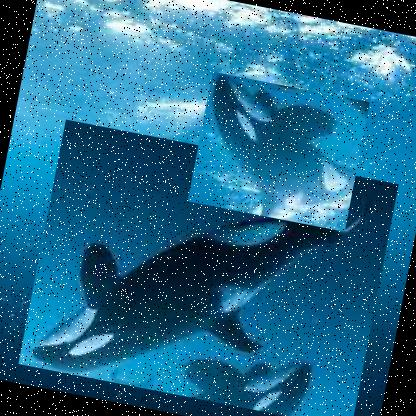killer_whale: (17, 119, 399, 415), (186, 71, 369, 232)
